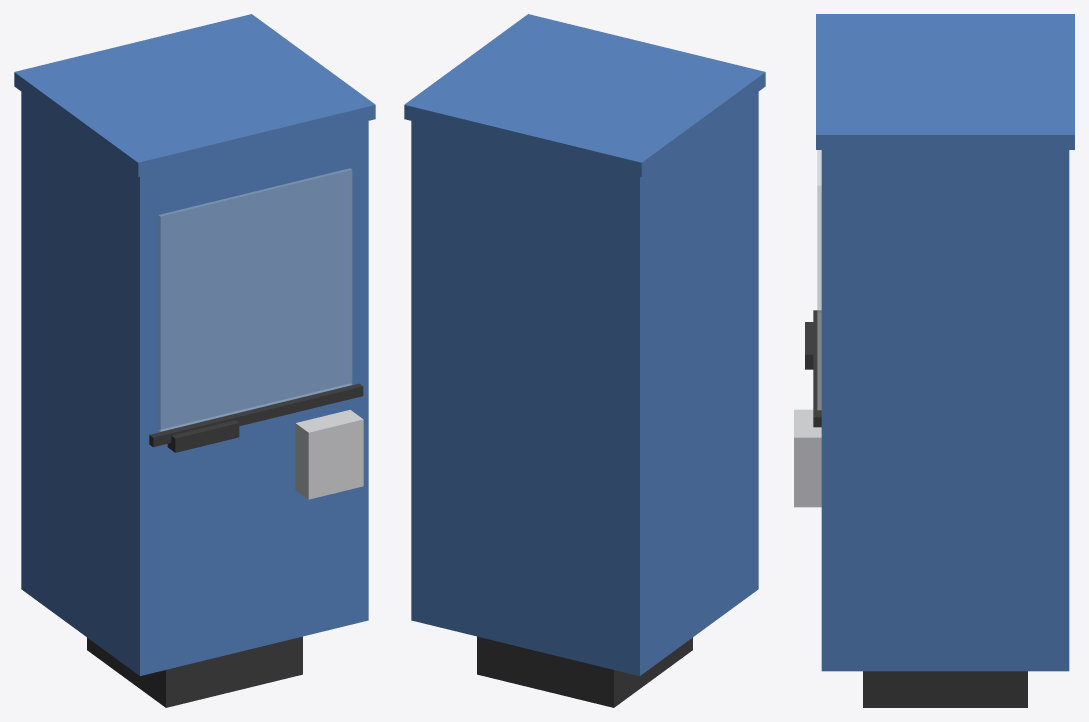
The model's file is newsrack_blue.glb.
The picture shows the model from 3 angles, left to right: view 1: azimuth 30°, elevation 25°; view 2: azimuth 150°, elevation 25°; view 3: azimuth 270°, elevation 25°; orthographic projection. The views are drawn at different scales.
Visible parts, largest first — view 1: newsrack_blue; view 2: newsrack_blue; view 3: newsrack_blue.
Part boxes in pixels (box(x1,y1,x2,y2)): newsrack_blue: box(14, 14, 375, 707); newsrack_blue: box(404, 14, 765, 707); newsrack_blue: box(794, 14, 1074, 707).
Bounding box in the file's own units: 0.52 × 1.2 × 0.51.
